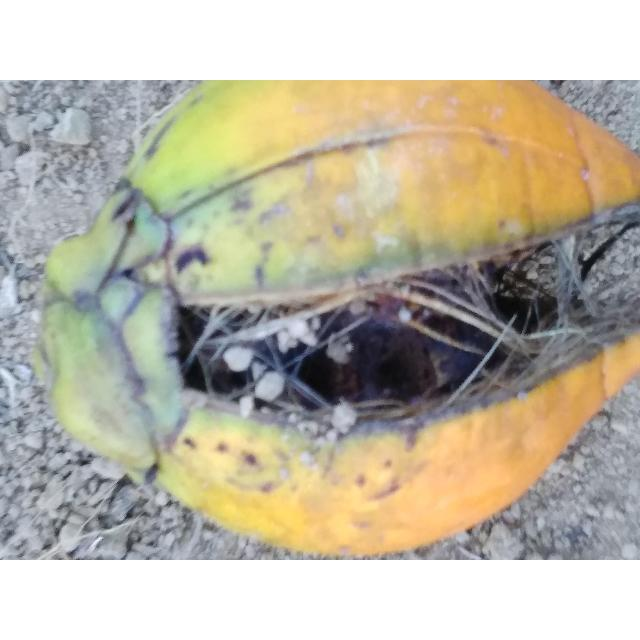damaged: (30, 80, 640, 559)
